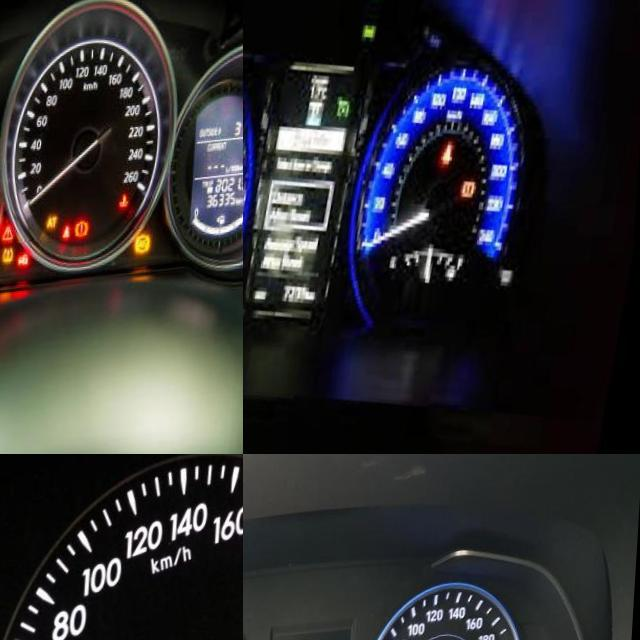Central Warning lamp: (4, 227, 21, 251)
Engine cooling system: (119, 197, 138, 220)
Seat Belt: (443, 154, 457, 177)
